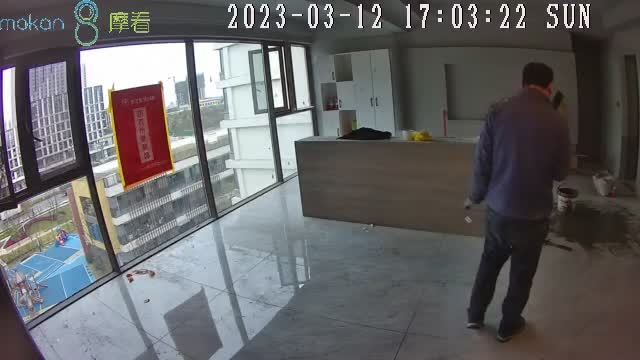people: (464, 62, 571, 342)
window: (1, 41, 336, 326)
